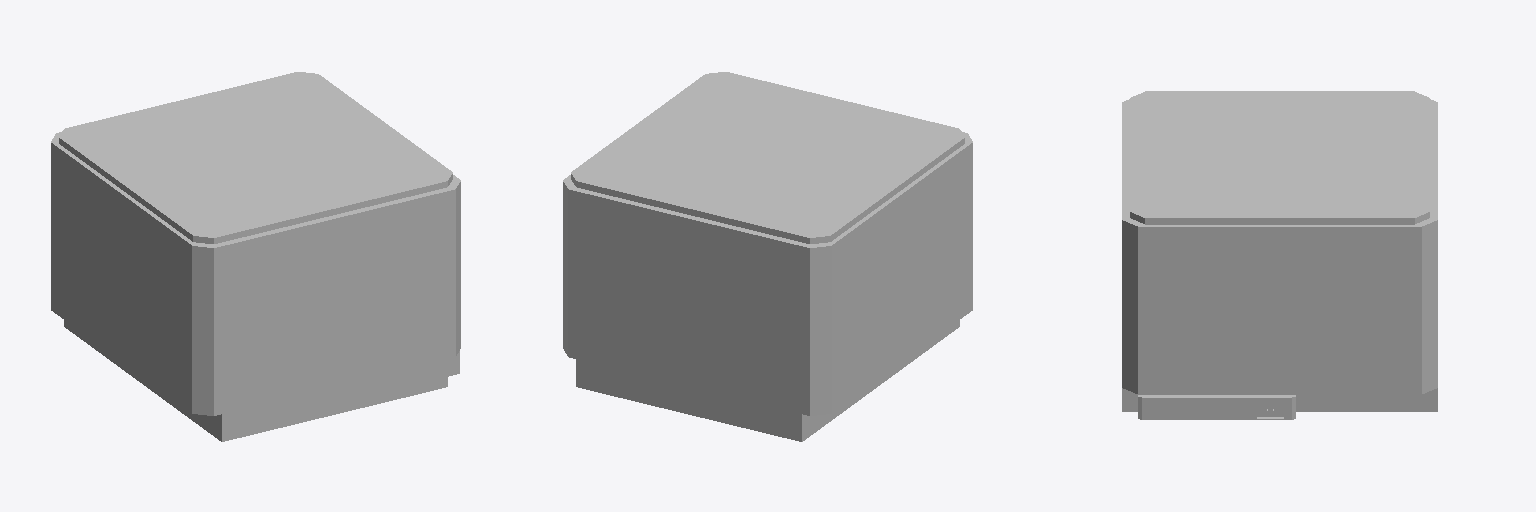
Rendered from small_hdd.obj.
The picture shows the model from 3 angles: view 1: azimuth 30°, elevation 25°; view 2: azimuth 150°, elevation 25°; view 3: azimuth 270°, elevation 25°; orthographic projection.
Parts seen in each view (by area): view 1: Cube; view 2: Cube; view 3: Cube.
Boxes of the visible parts, box(x1,y1,x2,y2) form: Cube: box(51, 72, 460, 441); Cube: box(563, 72, 972, 441); Cube: box(1122, 91, 1437, 419).
Bounding box in the file's own units: 1 × 0.7225 × 1.02.